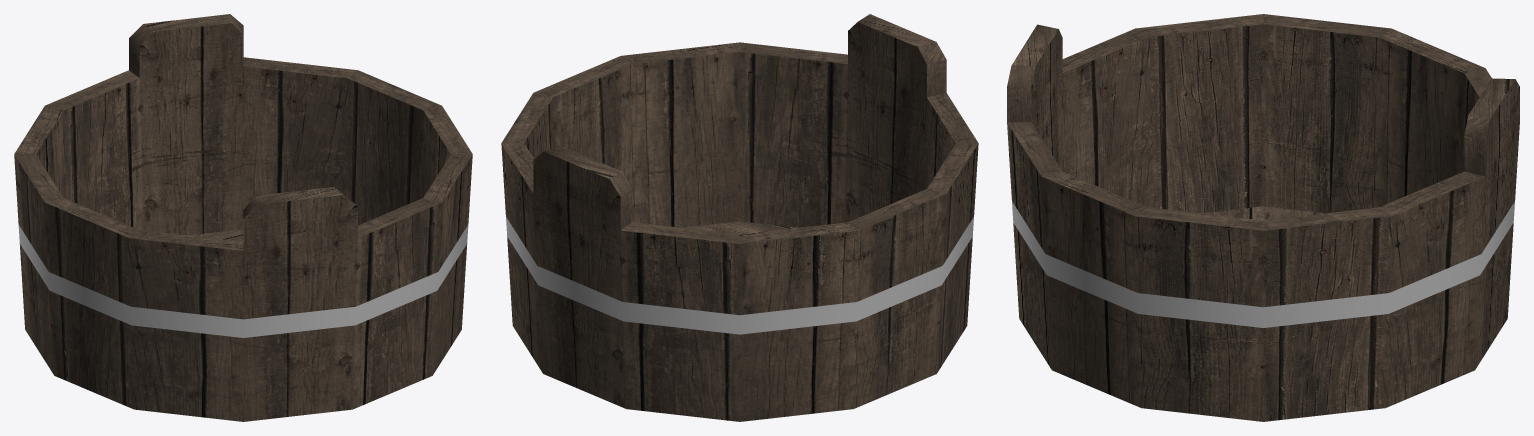
File: f1_tub.fbx
3 renders of one model, left to right at view 1: azimuth 30°, elevation 25°; view 2: azimuth 150°, elevation 25°; view 3: azimuth 270°, elevation 25°, orthographic. The views are drawn at different scales.
Visible parts, largest first — view 1: Mesh Object; view 2: Mesh Object; view 3: Mesh Object.
Part boxes in pixels (bbox=[...]): Mesh Object: bbox=[14, 14, 472, 421]; Mesh Object: bbox=[501, 14, 978, 421]; Mesh Object: bbox=[1007, 14, 1519, 421].
Bounding box in the file's own units: 1.3 × 0.69 × 1.3.
